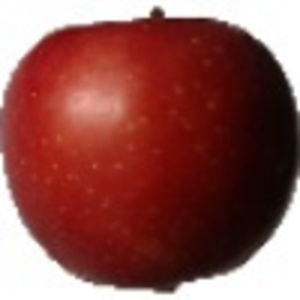maçã braeburn: (1, 10, 300, 292)
